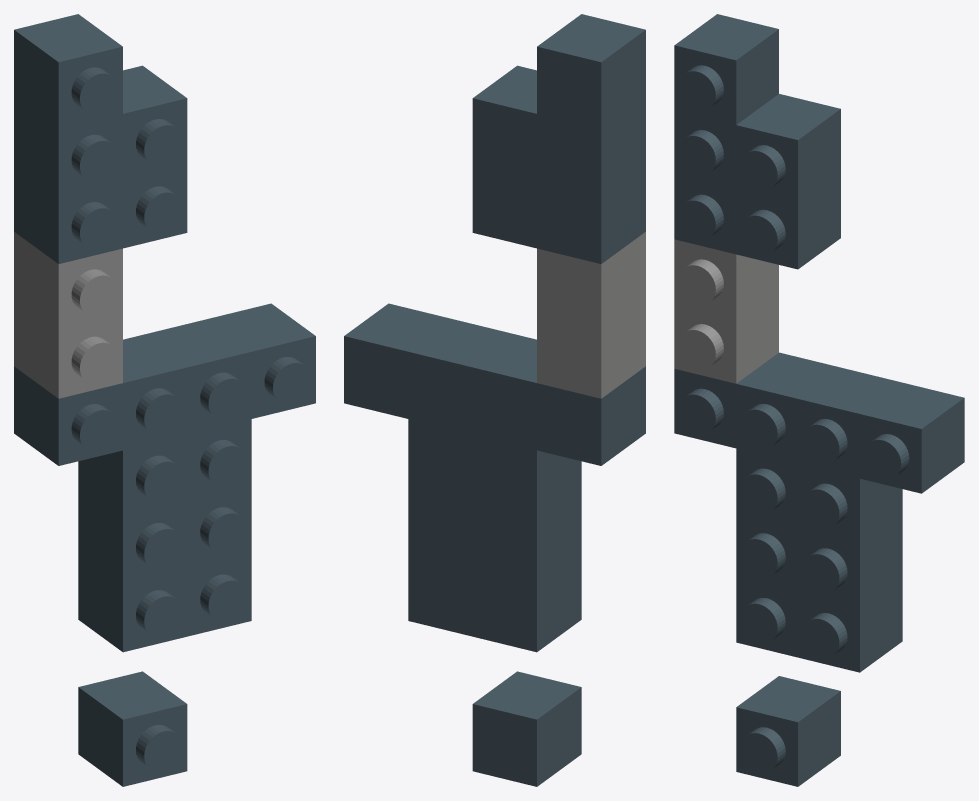
The model's file is current.glb.
The picture shows the model from 3 angles, left to right: view 1: azimuth 30°, elevation 25°; view 2: azimuth 150°, elevation 25°; view 3: azimuth 330°, elevation 25°; orthographic projection. The views are drawn at different scales.
Visible parts, largest first — view 1: world; view 2: world; view 3: world.
Boxes of the visible parts, x1,y1,x2,y2 form: world: [14, 14, 315, 786]; world: [344, 14, 645, 786]; world: [674, 14, 964, 786].
Bounding box in the file's own units: 32 × 88 × 11.4.
